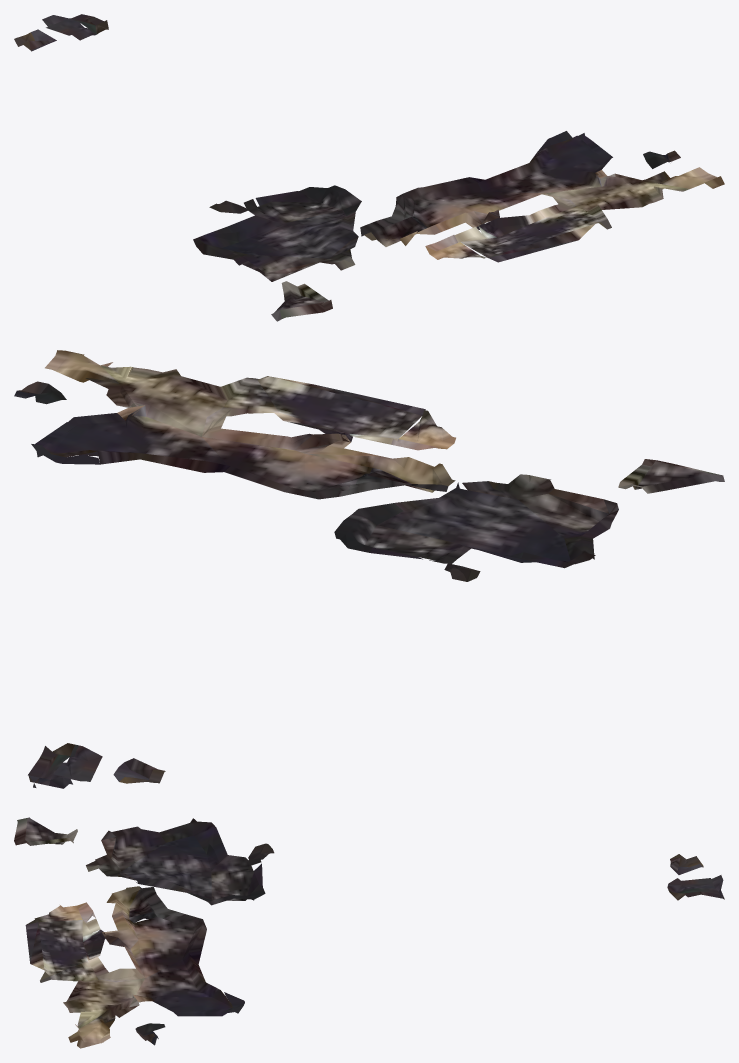
The picture shows the model from 3 angles, top to bottom: view 1: azimuth 30°, elevation 25°; view 2: azimuth 150°, elevation 25°; view 3: azimuth 270°, elevation 25°; orthographic projection. The views are drawn at different scales.
Parts seen in each view (by area): view 1: Mesh_0; view 2: Mesh_0; view 3: Mesh_0.
Boxes of the visible parts, bbox=[...] form: Mesh_0: bbox=[14, 14, 724, 321]; Mesh_0: bbox=[14, 350, 724, 788]; Mesh_0: bbox=[14, 817, 724, 1048].
Size of the model in its own units: 27.75 by 0.9698 by 37.03.
Materials: 1 (1 with a texture image).
